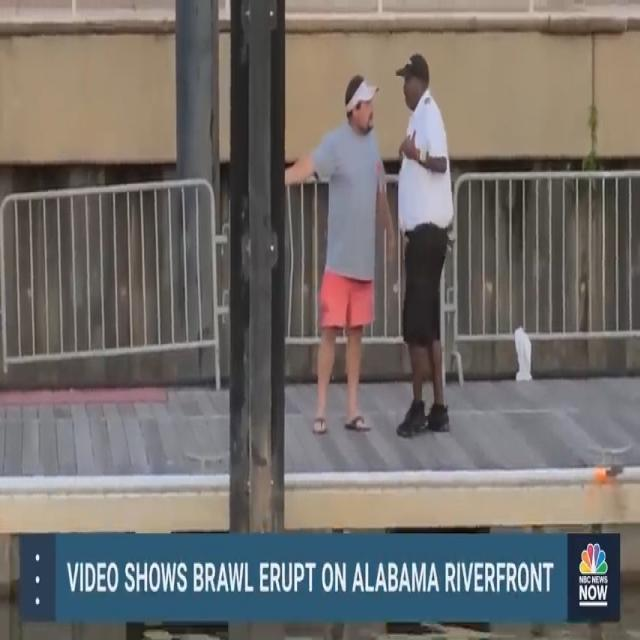non-fight: (290, 34, 466, 457)
